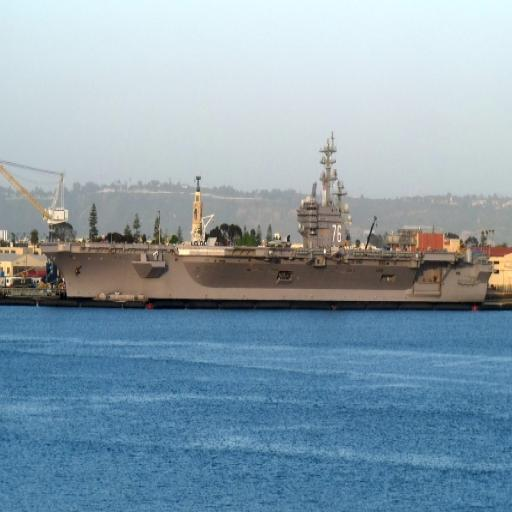Portanaves: (33, 123, 496, 313)
